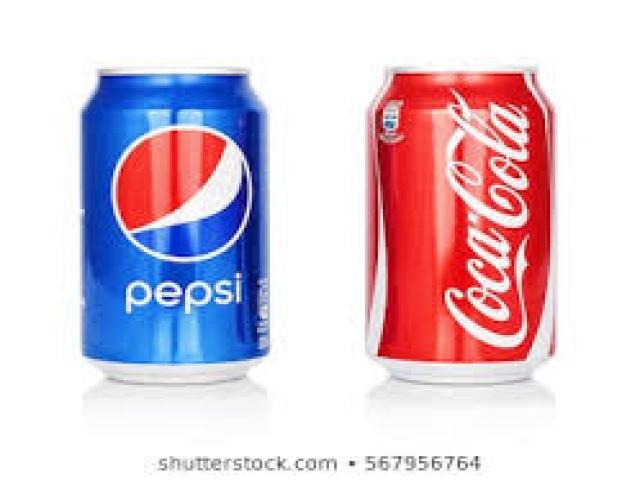Canned_drinks: (362, 66, 558, 382), (80, 66, 270, 382)
